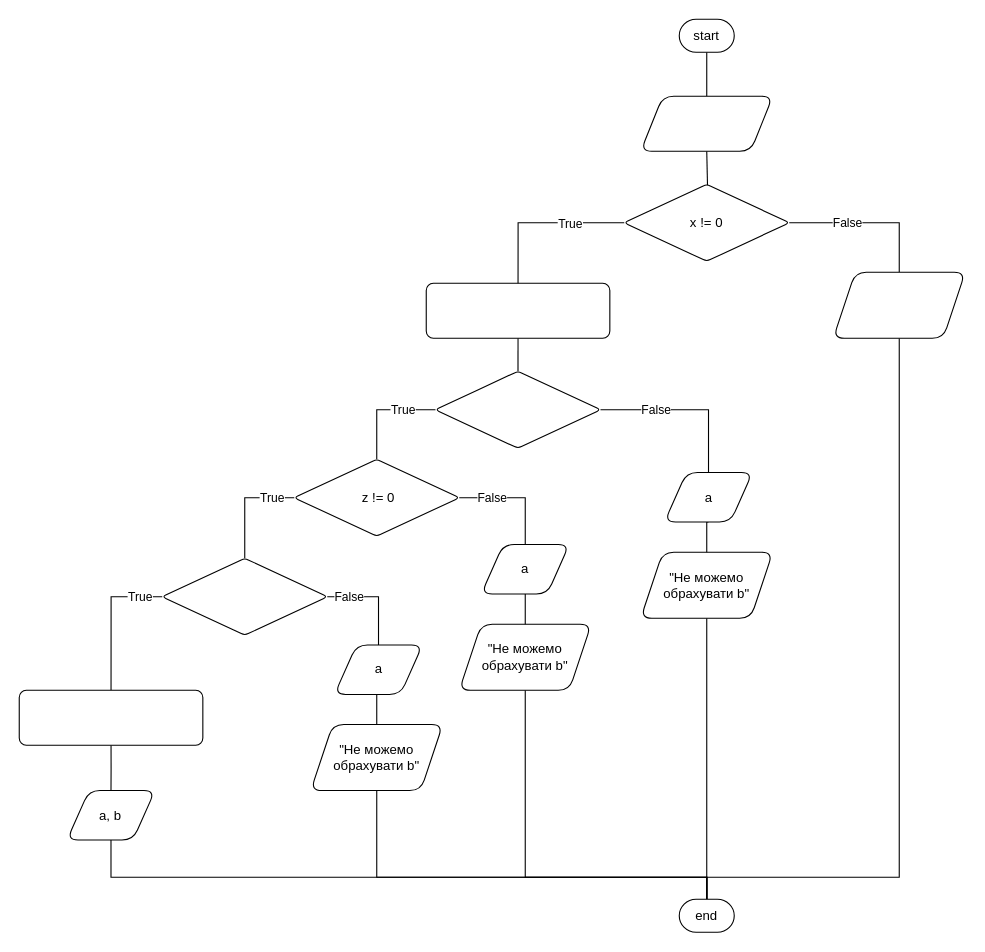
This 985x952 diagram has some shape labels left out. The box of each missing label's shape, as (x1, y1, x2, y2) in pixels:
"Не можемо обрахувати a і b": (832, 271, 965, 338)
a != 0: (434, 370, 600, 448)
a = x + (|y|+z 3 ) 1/3 / (x 3 +x): (425, 282, 610, 338)
b = (x-y) 1/2 /z+1/a 2: (18, 689, 203, 745)
x, y, z є R: (640, 95, 773, 151)
x-y >= 0: (161, 557, 327, 635)
